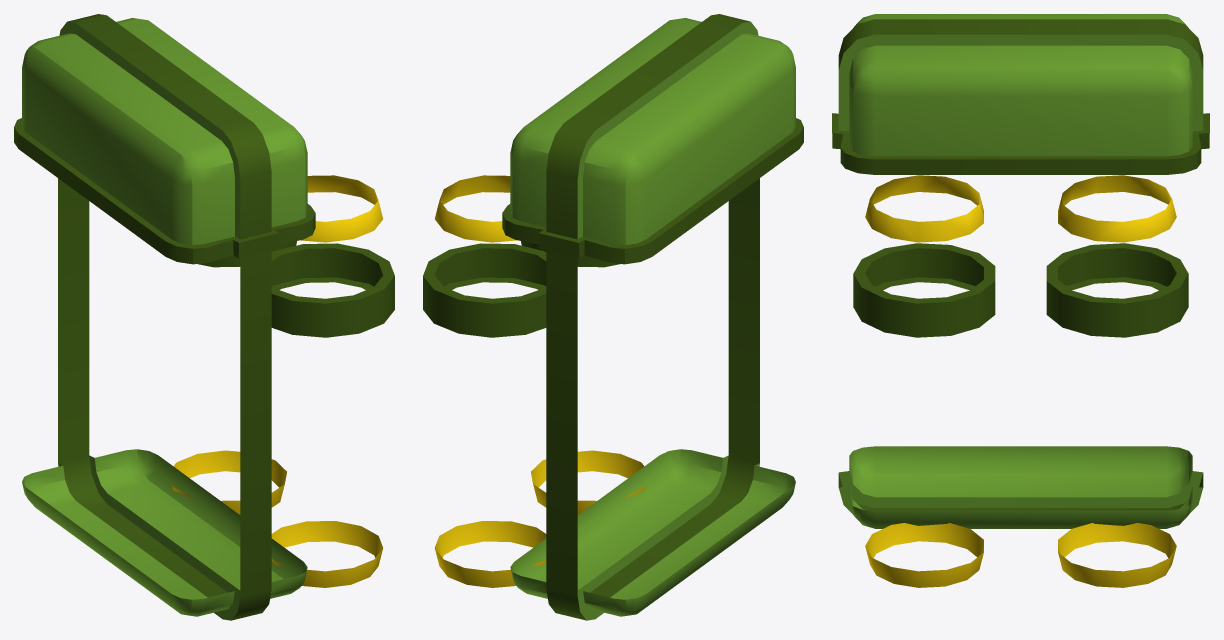
Rendered from JetPAck.fbx.
The picture shows the model from 3 angles, left to right: view 1: azimuth 30°, elevation 25°; view 2: azimuth 150°, elevation 25°; view 3: azimuth 270°, elevation 25°; orthographic projection.
Parts seen in each view (by area): view 1: Cylinder; view 2: Cylinder; view 3: Cylinder.
Part boxes in pixels (bbox=[...]): Cylinder: bbox=[14, 14, 394, 620]; Cylinder: bbox=[423, 14, 803, 620]; Cylinder: bbox=[832, 14, 1209, 587].
Bounding box in the file's own units: 138 × 184 × 288.
